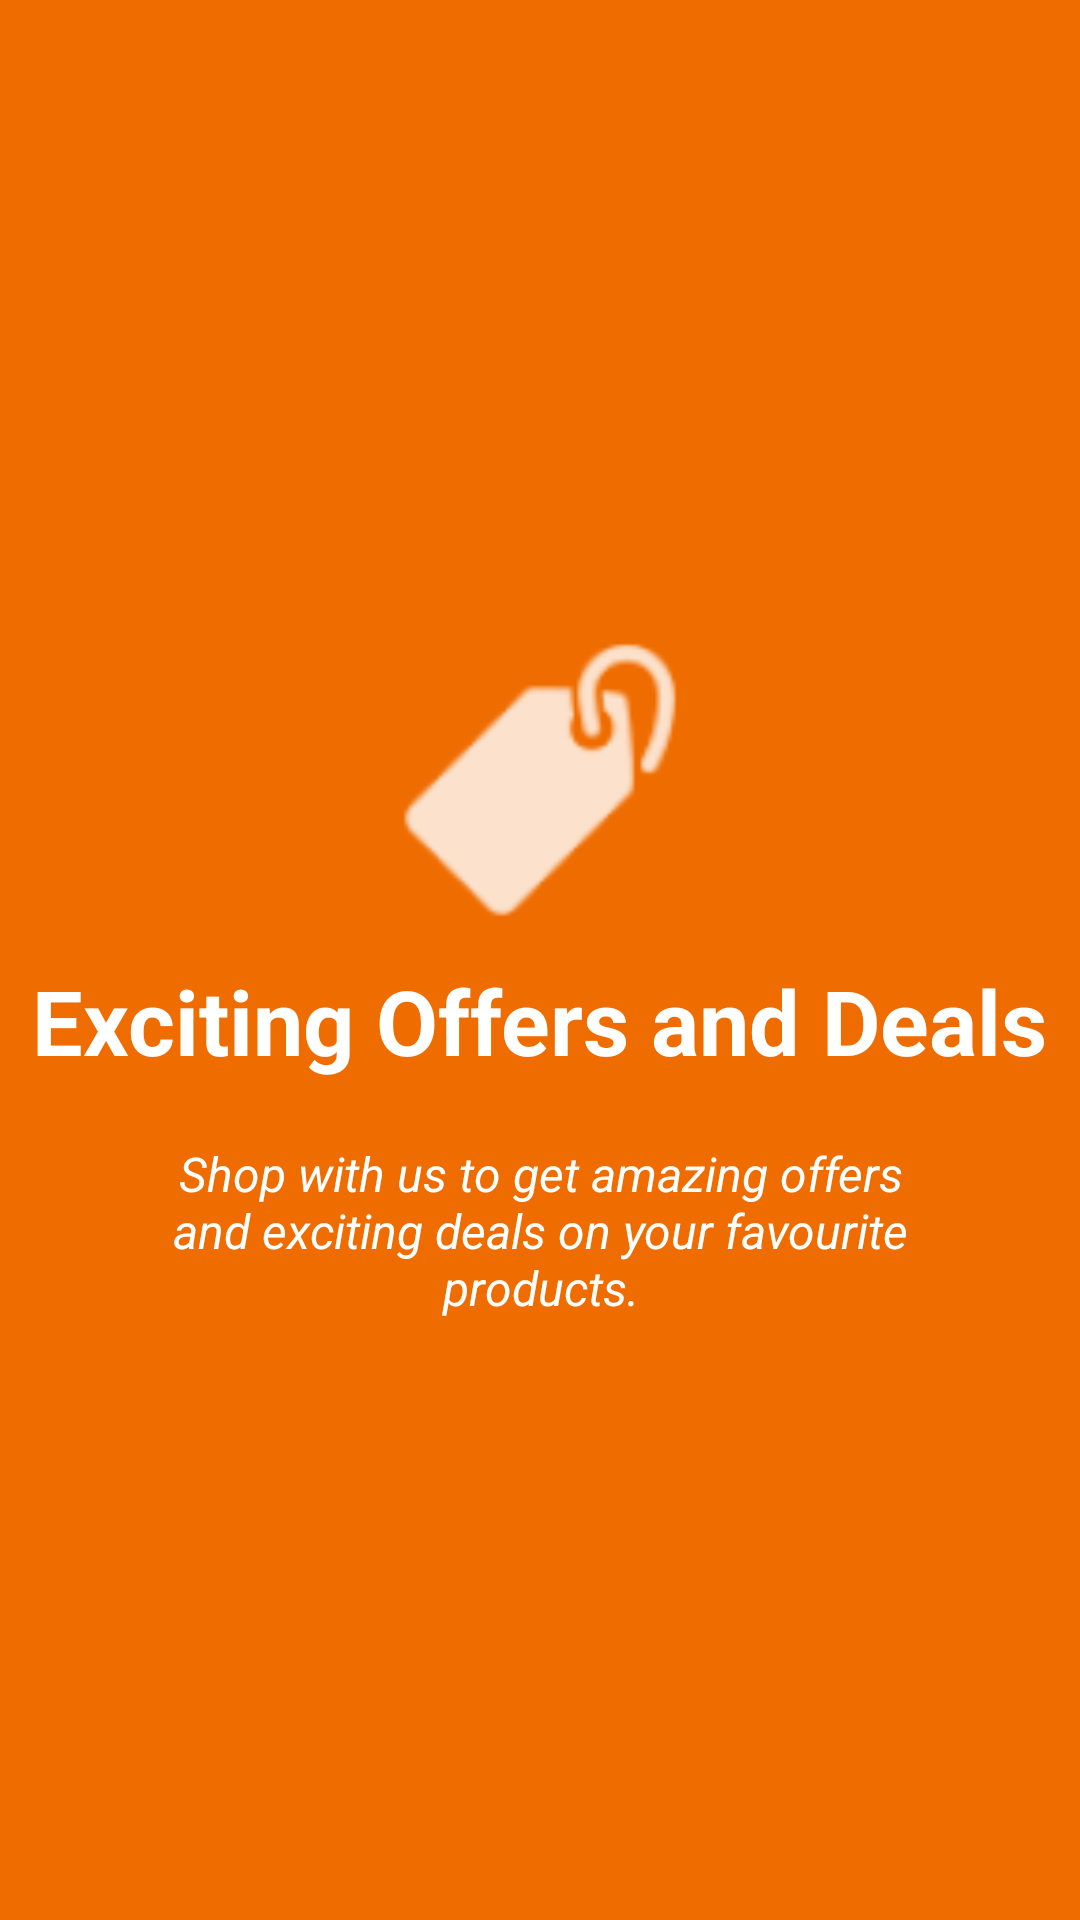

Icon click points for this 1080px x 1920px phone screenshot, format (x,y):
discount: (540,780)
